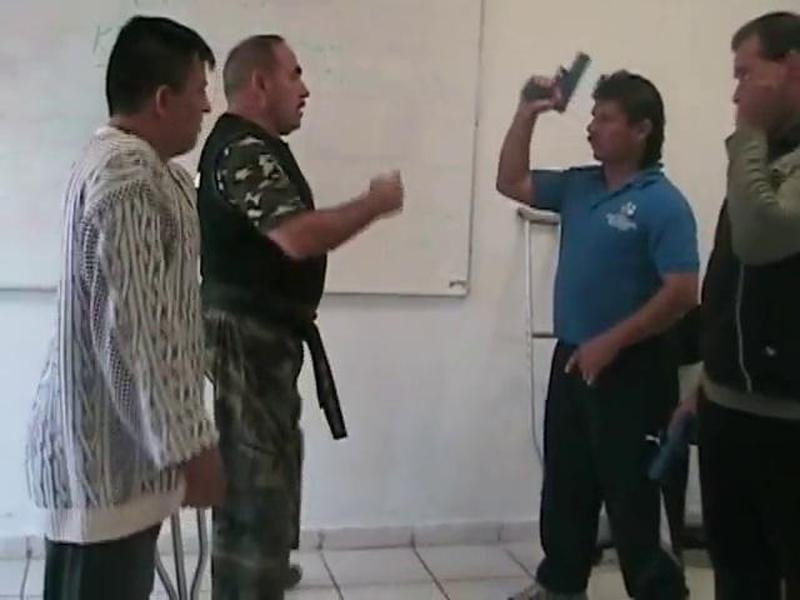Pistola: (507, 39, 607, 128)
